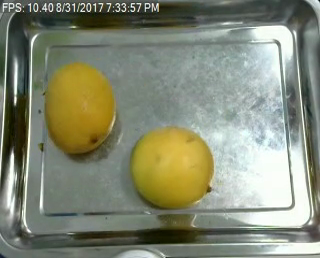Mango: (44, 63, 116, 154), (130, 127, 211, 207)
